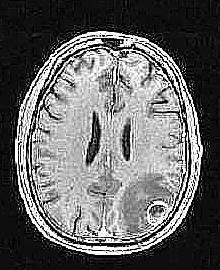Normal_Brain: (1, 1, 220, 270)
